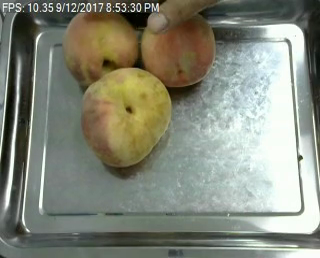Peach: (80, 68, 172, 170), (139, 11, 216, 86), (62, 11, 138, 84)
